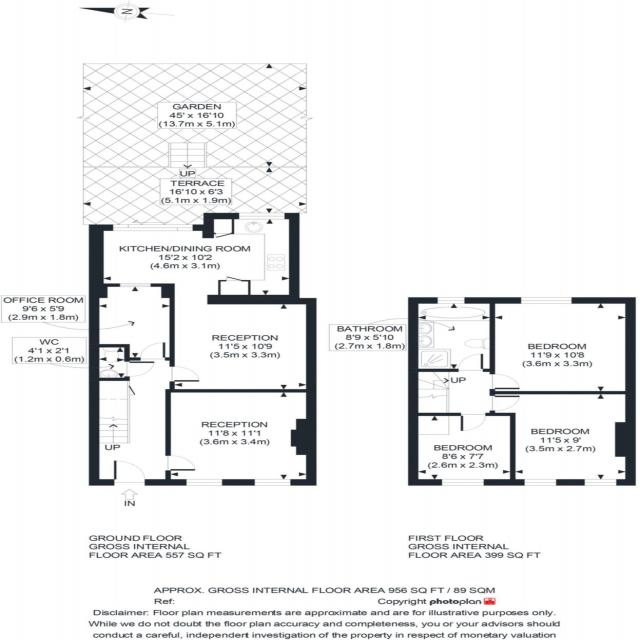DOOR: (113, 460, 146, 485), (109, 224, 195, 232), (459, 413, 488, 432), (125, 360, 156, 377), (490, 394, 521, 411), (457, 353, 484, 372), (490, 373, 520, 390), (139, 342, 167, 360), (165, 455, 196, 471), (170, 366, 200, 382), (237, 212, 287, 220), (185, 479, 224, 486), (253, 479, 292, 486), (118, 283, 152, 287)
ROOM: (89, 212, 317, 393), (165, 389, 317, 486), (490, 297, 636, 394), (490, 391, 637, 486)
WINDOW: (519, 297, 573, 304), (441, 479, 485, 486), (582, 479, 617, 486), (523, 479, 557, 486), (436, 297, 466, 304)
